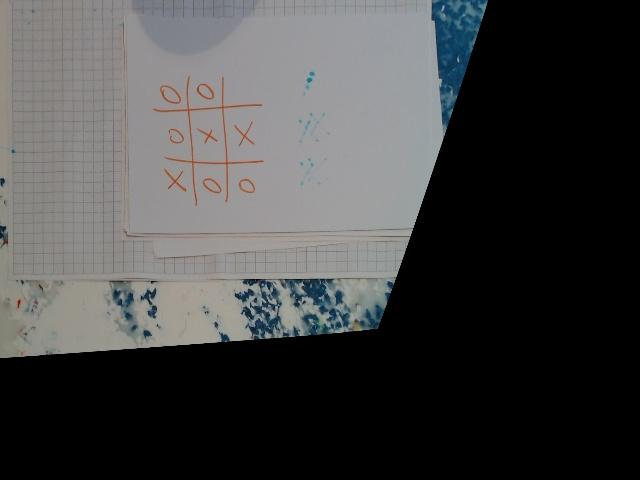O: (158, 81, 183, 108), (234, 172, 258, 197), (199, 173, 223, 196), (195, 79, 217, 102), (164, 127, 186, 147)
X: (162, 166, 188, 196), (230, 121, 256, 149), (195, 122, 219, 146)
grid: (154, 76, 267, 204)
